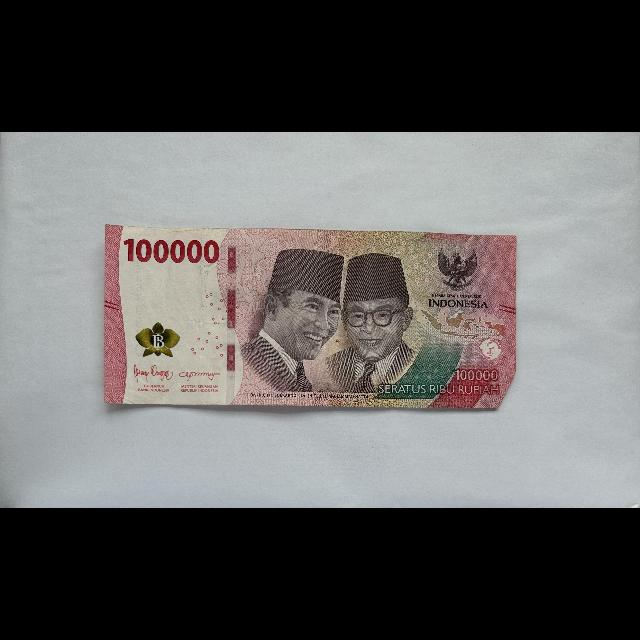Asli-100k: (104, 223, 519, 412)
Tinta-Asli-100k: (135, 321, 182, 358)
